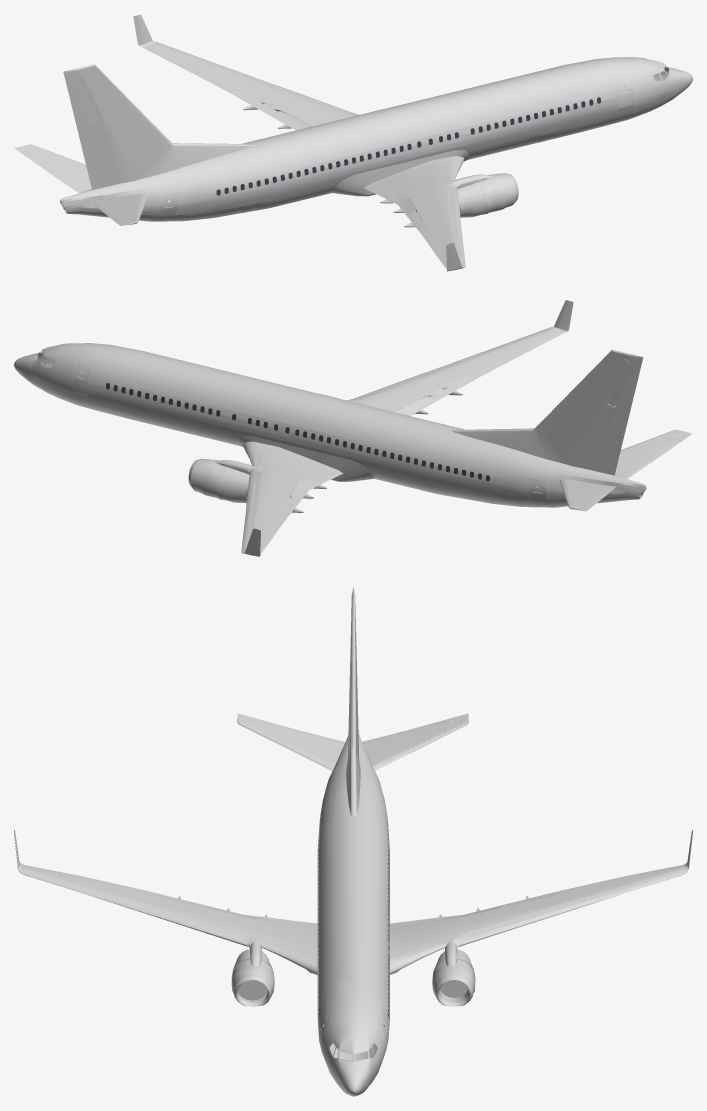
3 renders of one model, top to bottom at view 1: azimuth 30°, elevation 25°; view 2: azimuth 150°, elevation 25°; view 3: azimuth 270°, elevation 25°, orthographic. The views are drawn at different scales.
Visible parts, largest first — view 1: body, glass; view 2: body, glass; view 3: body.
Part boxes in pixels (left/top/right/bottom): body: left=14, top=14, right=692, bottom=271; glass: left=216, top=97, right=600, bottom=195; body: left=14, top=300, right=692, bottom=556; glass: left=106, top=383, right=489, bottom=481; body: left=14, top=586, right=692, bottom=1096.
Size of the model in its own units: 2.2 by 0.6561 by 1.89.
